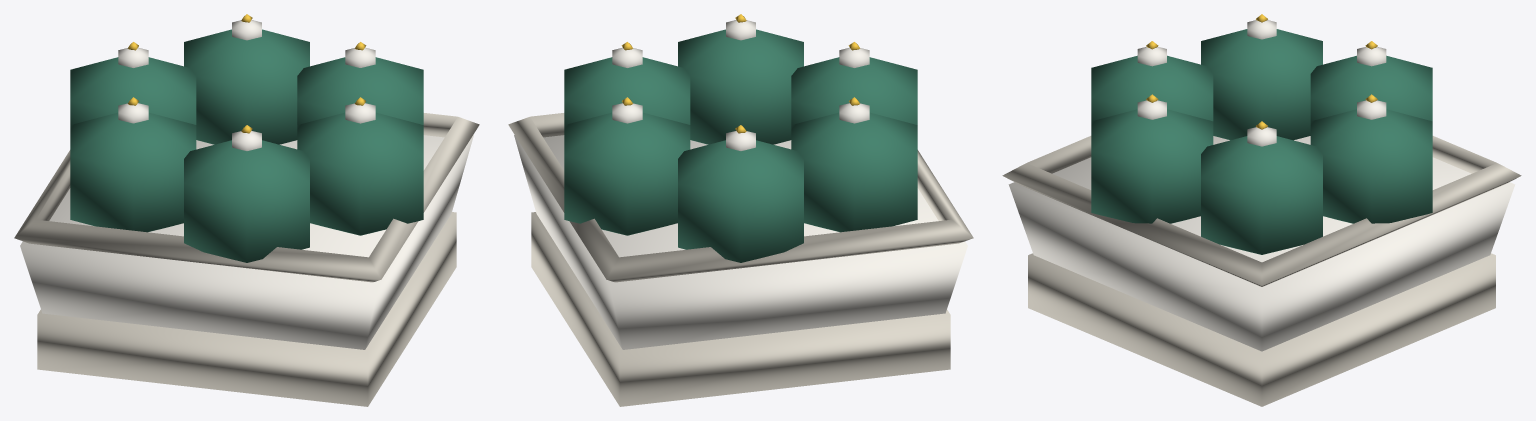
File: marble_planter_low.glb
3 renders of one model, left to right at view 1: azimuth 30°, elevation 25°; view 2: azimuth 150°, elevation 25°; view 3: azimuth 270°, elevation 25°, orthographic. The views are drawn at different scales.
Size of the model in its own units: 1.6 by 0.8175 by 1.6.
